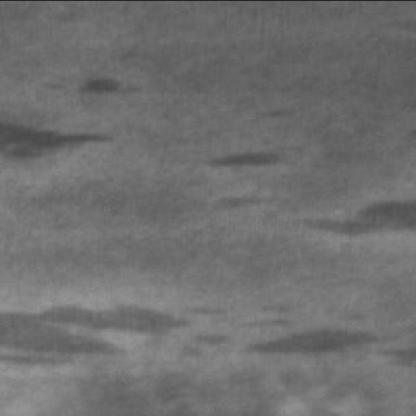inclusion: (6, 293, 294, 373), (231, 302, 416, 370), (2, 118, 125, 170), (295, 196, 416, 248), (50, 73, 152, 106), (208, 144, 289, 178)
